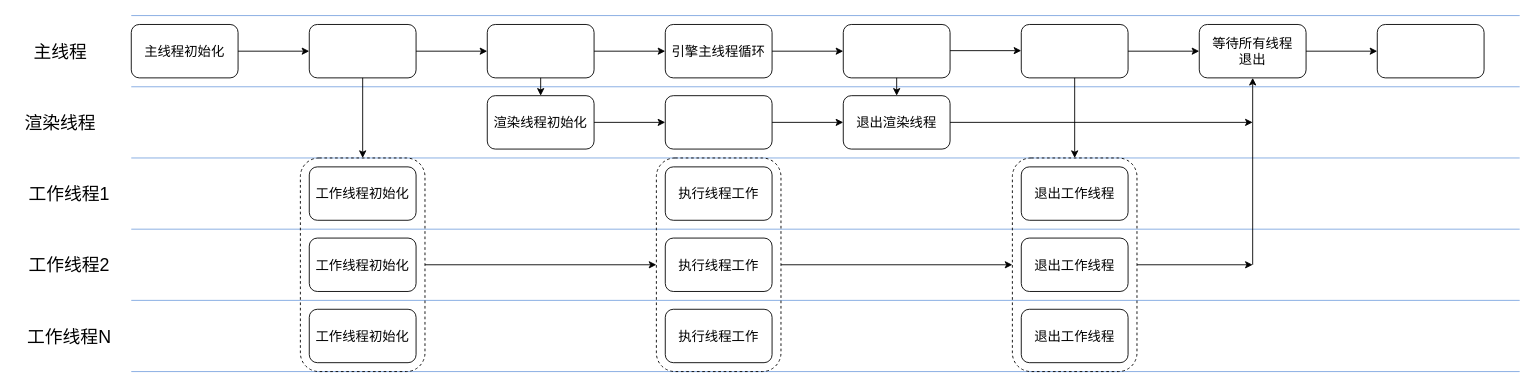
Image size: 1536x388. Some labels were removed from this diagram. The centre of each missing label's shape, as x and y in pixels:
创建工作线程池: point (362, 51)
创建渲染线程: point (540, 51)
应用退出: point (1430, 51)
执行渲染命令: point (718, 122)
通知工作线程 退出: point (1074, 51)
通知渲染线程 退出: point (896, 51)
